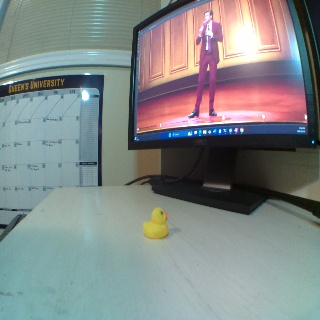duck_regular: (141, 206, 168, 240)
